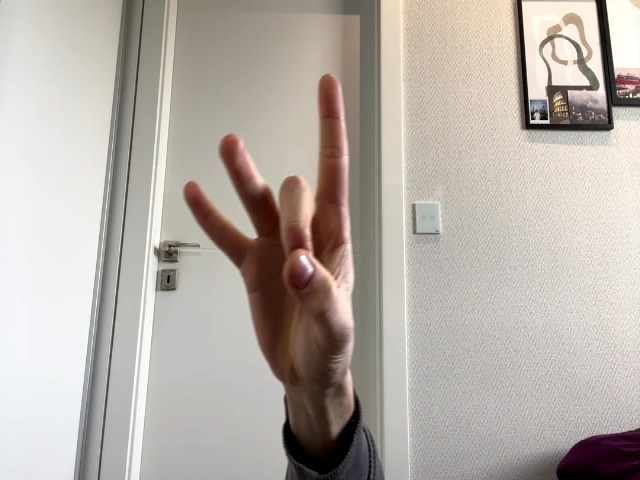G: (184, 73, 356, 379)
